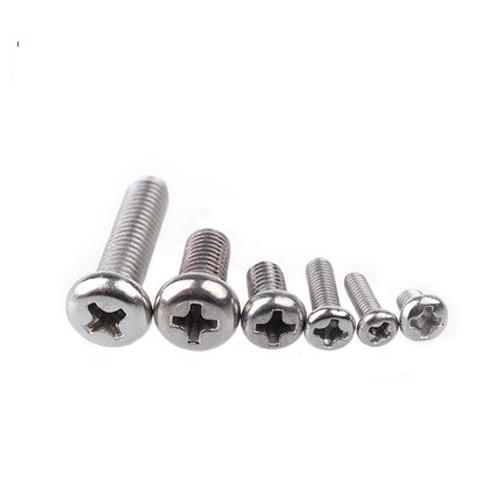Tornillo: (61, 174, 171, 346), (149, 223, 243, 356), (236, 261, 311, 353), (301, 256, 358, 353), (340, 269, 403, 346), (391, 282, 452, 345)
